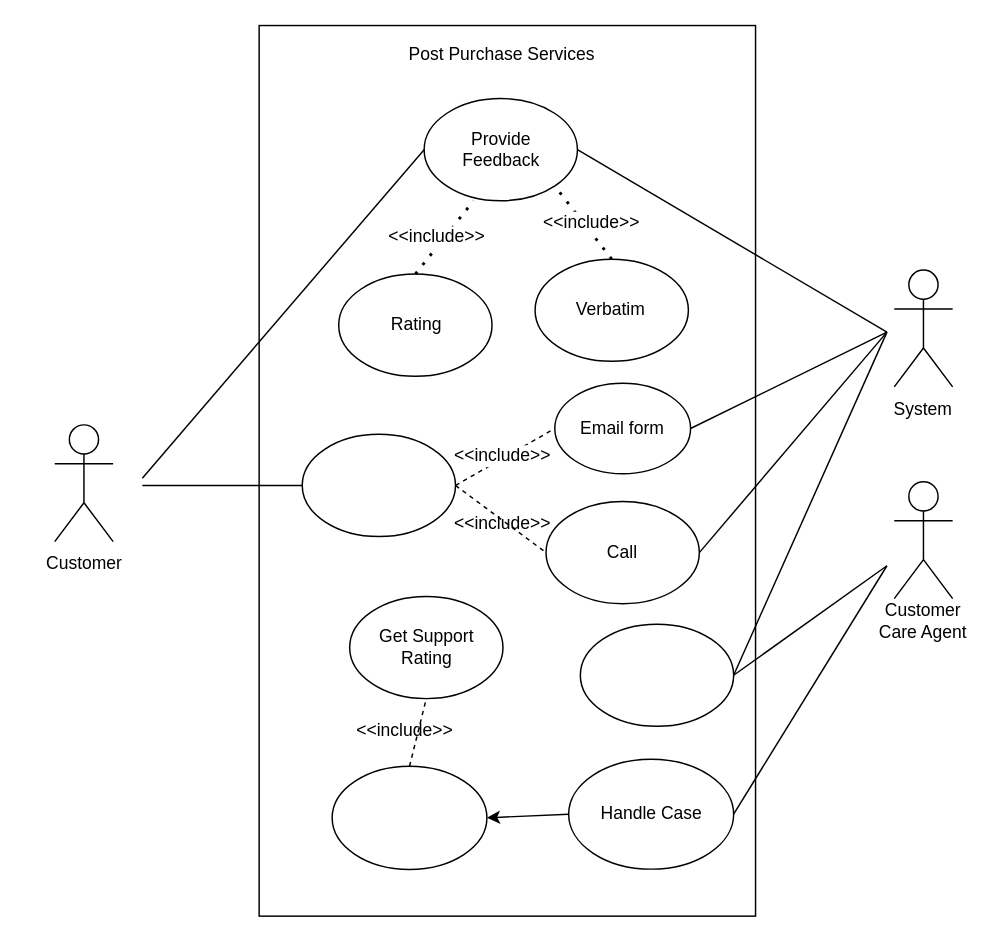
Image size: 999x942. Some labels were removed from this diagram. Here are the shapes that lost their labels. From the top down, the box of each, then its label:
(301, 433, 456, 537): Contact Support
(579, 623, 734, 726): Assign case to an Agent
(331, 765, 487, 869): Follow up on the case
